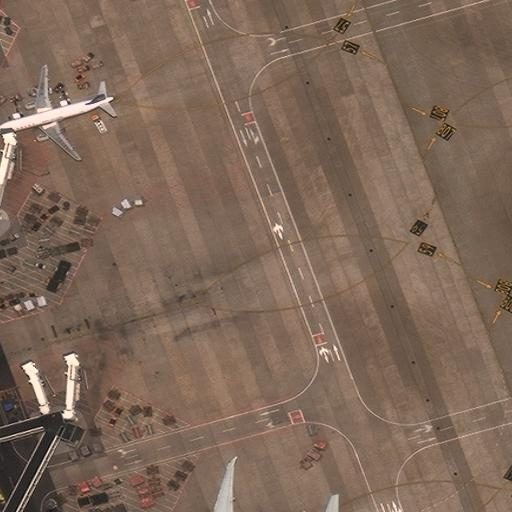Large Civil Transport: (184, 461, 324, 511)
Medium Civil Transport: (0, 64, 112, 159)
